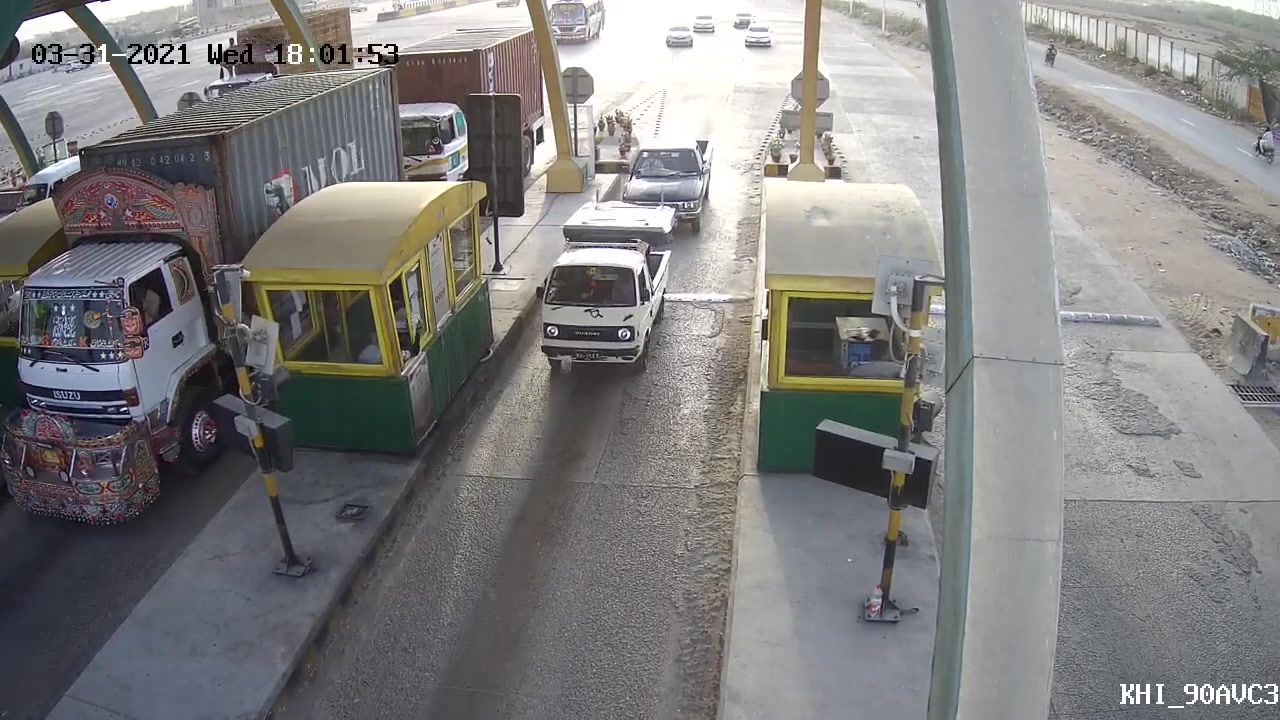F1: (526, 208, 683, 373)
